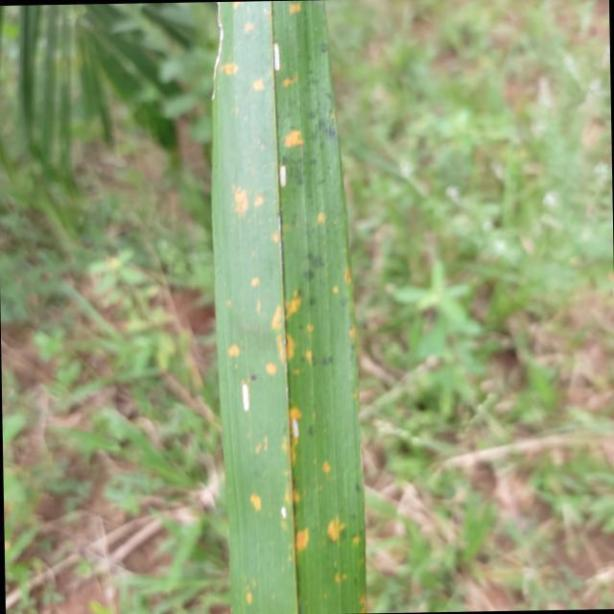Kalium: (214, 0, 371, 614)
